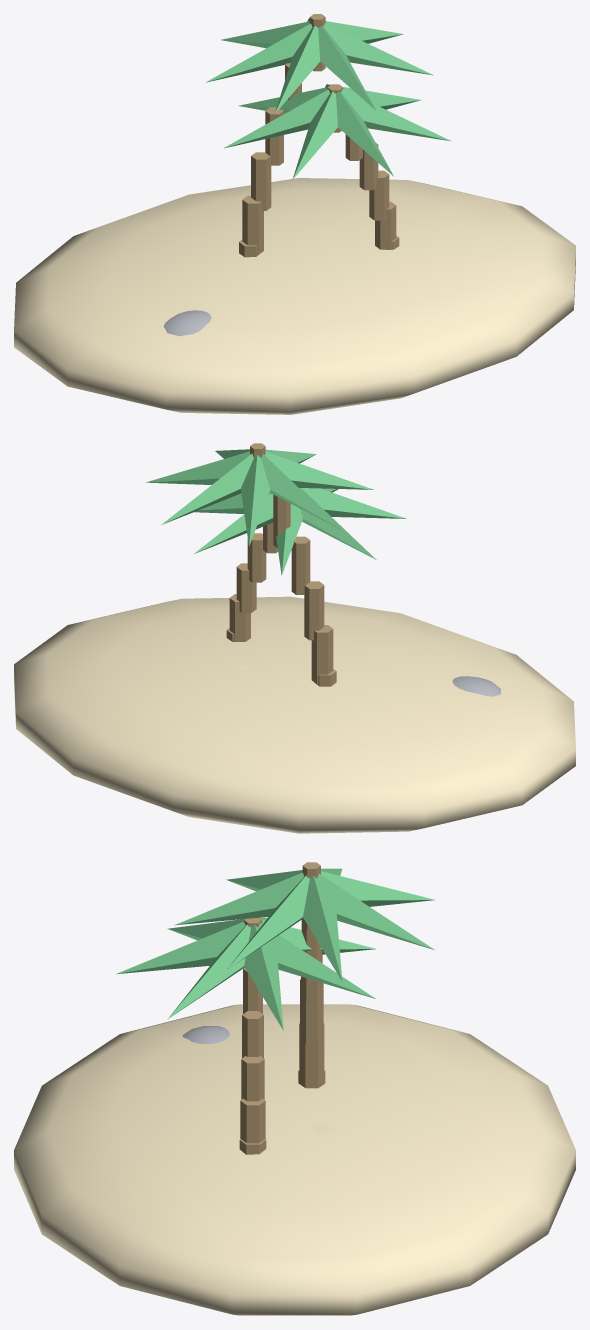
File: ocean__island_palms.fbx
3 renders of one model, top to bottom at view 1: azimuth 30°, elevation 25°; view 2: azimuth 150°, elevation 25°; view 3: azimuth 270°, elevation 25°, orthographic. The views are drawn at different scales.
Visible parts, largest first — view 1: ocean__island_palms; view 2: ocean__island_palms; view 3: ocean__island_palms.
Boxes of the visible parts, bbox=[...] form: ocean__island_palms: bbox=[14, 14, 575, 414]; ocean__island_palms: bbox=[14, 443, 575, 833]; ocean__island_palms: bbox=[14, 862, 575, 1315].
Size of the model in its own units: 8.16 by 4.84 by 6.7.
